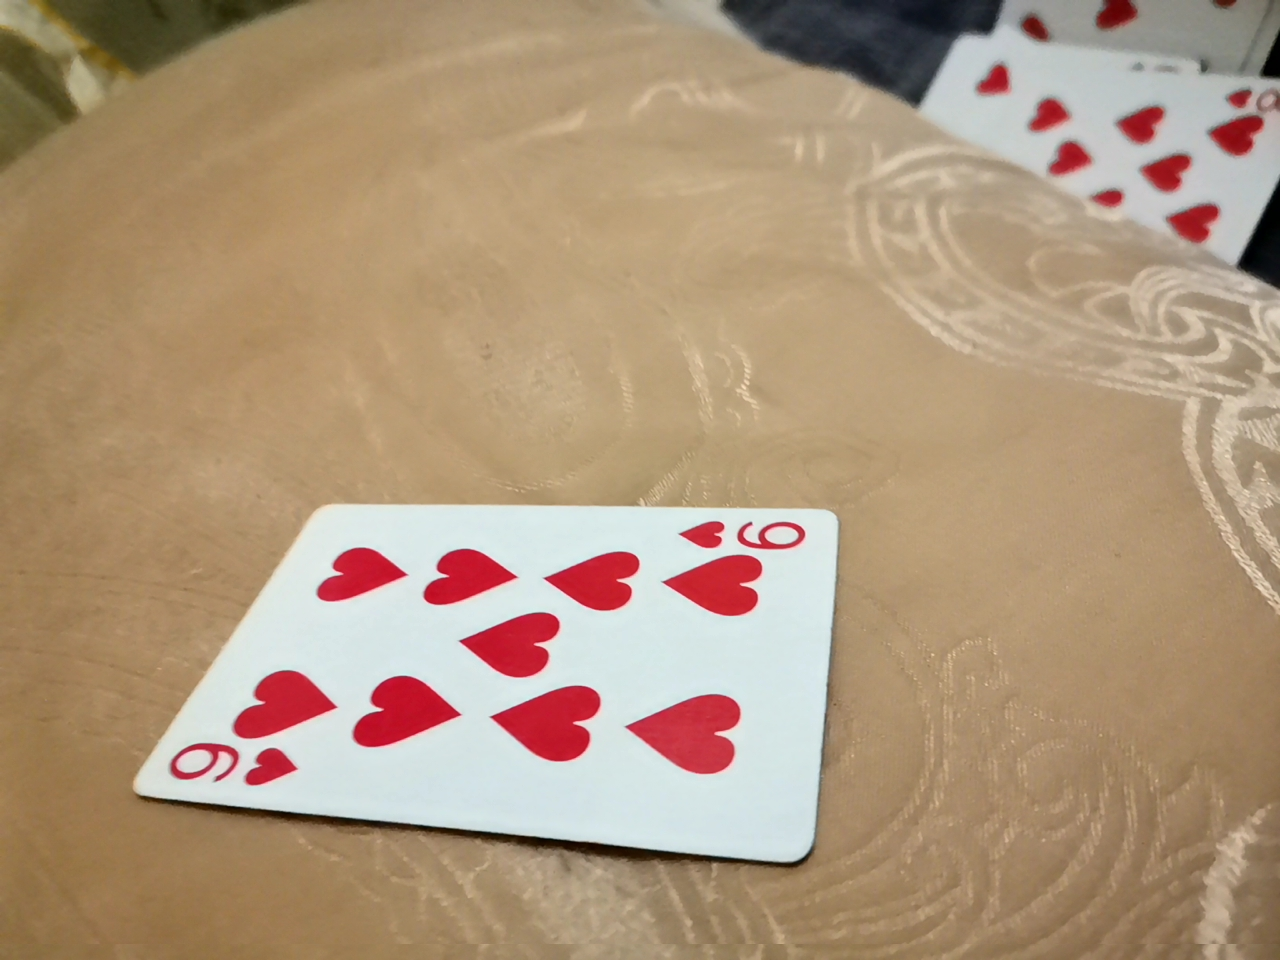hx 9: (137, 496, 850, 853)
